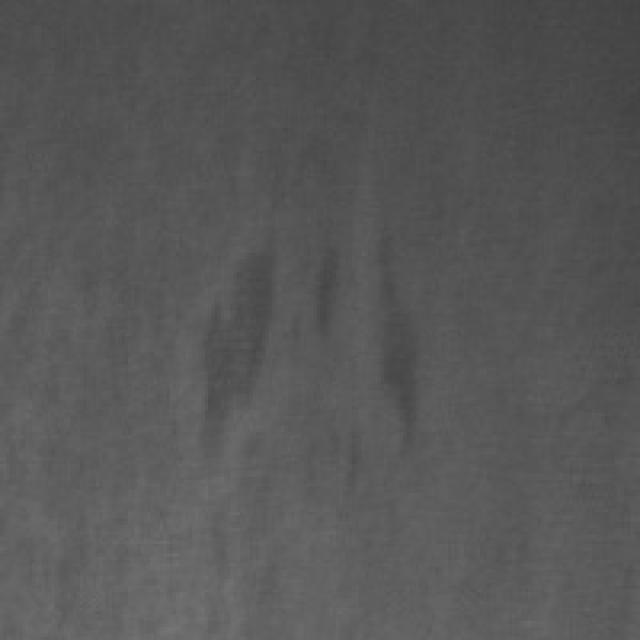inclusion: (176, 224, 294, 458), (346, 205, 442, 461), (282, 230, 358, 356)
